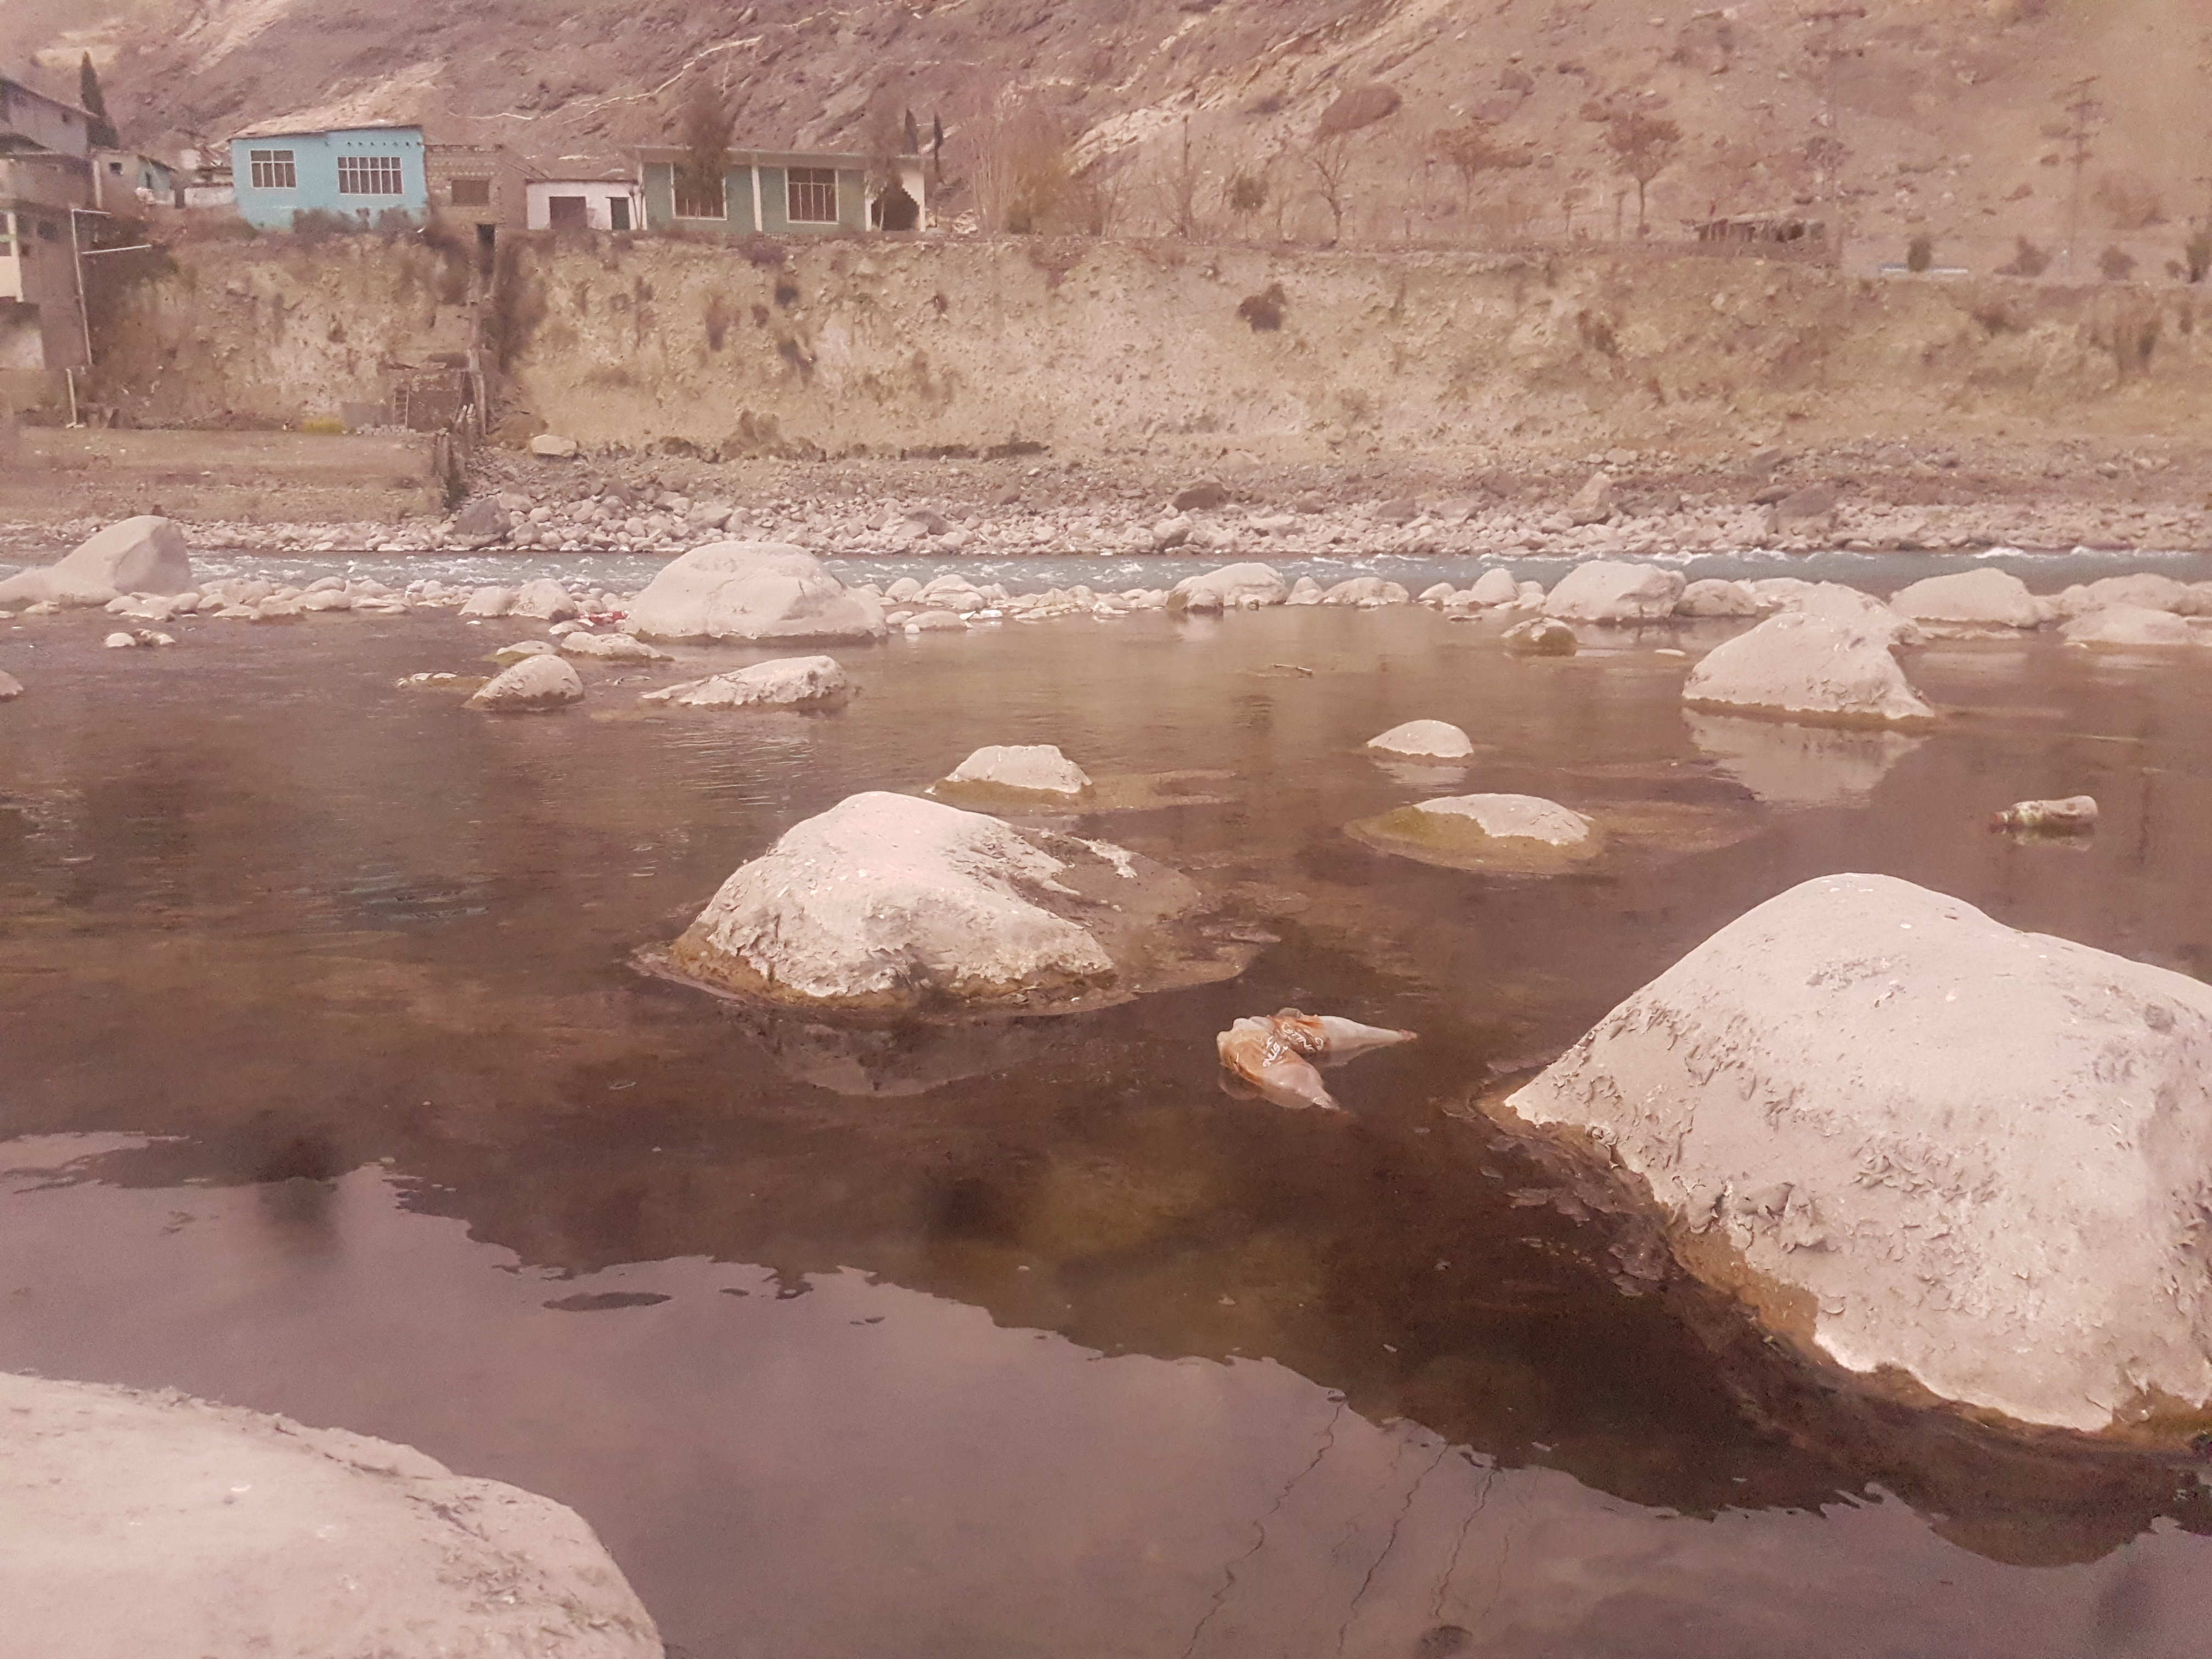Plastic Bottle: (1216, 1016, 1332, 1108), (1252, 1014, 1414, 1053), (1991, 795, 2097, 828), (583, 610, 631, 620)
